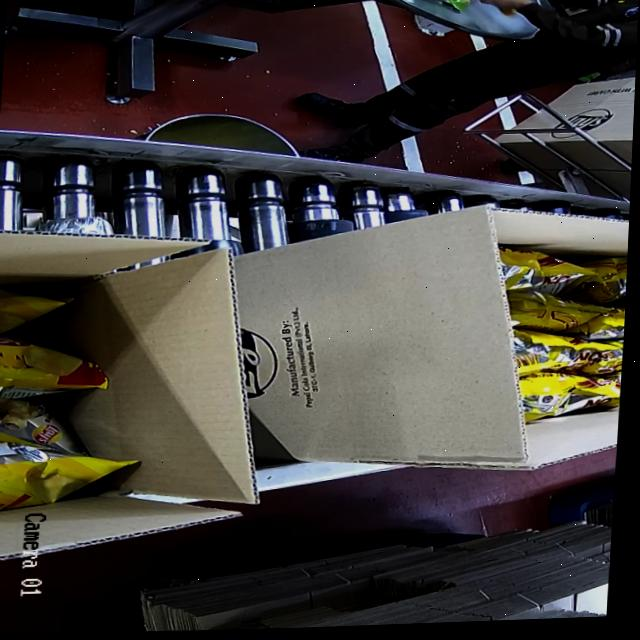SALTED: (0, 269, 125, 530), (507, 238, 628, 419)
